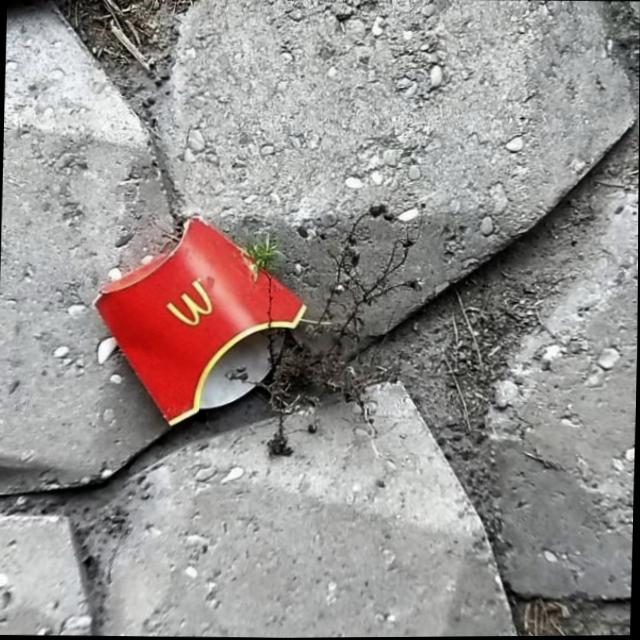Paper: (85, 212, 311, 432)
